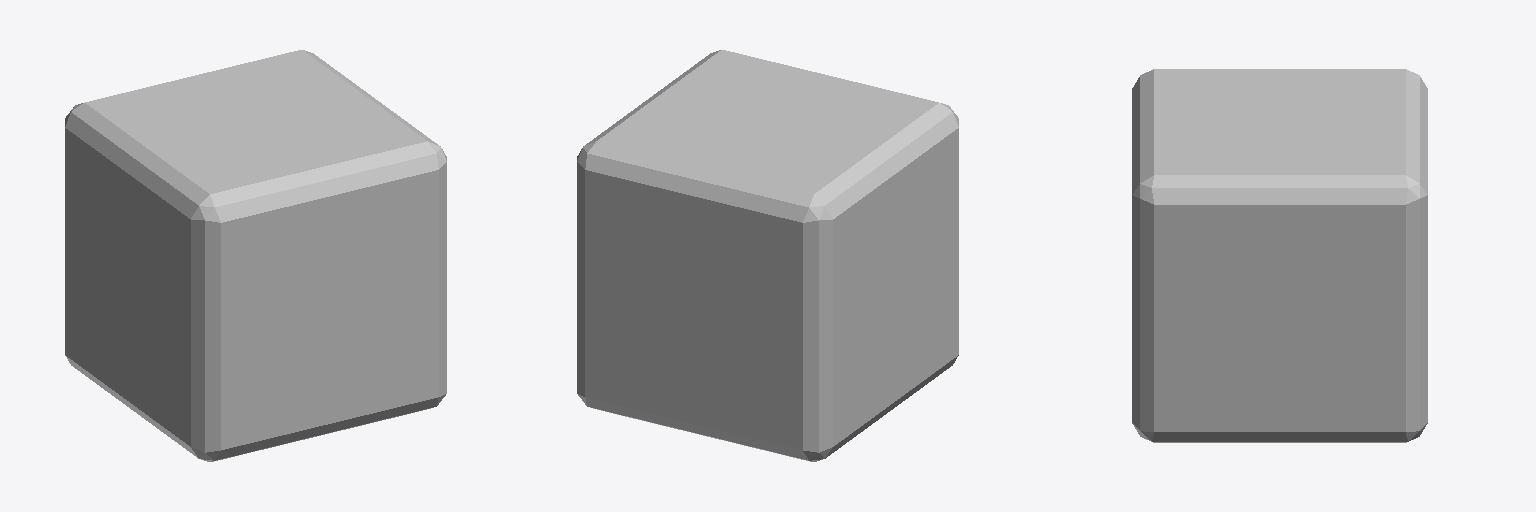
The model's file is sector.obj.
3 views of the same model, side by side, from view 1: azimuth 30°, elevation 25°; view 2: azimuth 150°, elevation 25°; view 3: azimuth 270°, elevation 25° (orthographic).
Visible parts, largest first — view 1: cube_cube_geom, cube_old_cube_geom_old, cube1_cube1_geom, cube0_cube0_geom, cube2_cube2_geom, cube4_cube4_geom, cube3_cube3_geom, cube7_cube7_geom; view 2: cube_cube_geom, cube_old_cube_geom_old, cube0_cube0_geom, cube4_cube4_geom, cube7_cube7_geom, cube3_cube3_geom, cube5_cube5_geom, cube6_cube6_geom; view 3: cube_cube_geom, cube_old_cube_geom_old, cube6_cube6_geom, cube5_cube5_geom, cube2_cube2_geom, cube1_cube1_geom.
Part boxes in pixels (left/top/right/bottom): cube_cube_geom: left=65, top=50, right=446, bottom=461; cube_old_cube_geom_old: left=73, top=66, right=424, bottom=431; cube1_cube1_geom: left=273, top=112, right=424, bottom=308; cube0_cube0_geom: left=128, top=127, right=329, bottom=327; cube2_cube2_geom: left=330, top=288, right=424, bottom=405; cube4_cube4_geom: left=73, top=110, right=229, bottom=279; cube3_cube3_geom: left=135, top=310, right=329, bottom=429; cube7_cube7_geom: left=73, top=250, right=127, bottom=377; cube_cube_geom: left=577, top=50, right=958, bottom=461; cube_old_cube_geom_old: left=599, top=101, right=950, bottom=431; cube0_cube0_geom: left=821, top=109, right=950, bottom=286; cube4_cube4_geom: left=694, top=127, right=895, bottom=330; cube7_cube7_geom: left=694, top=288, right=895, bottom=430; cube3_cube3_geom: left=896, top=248, right=950, bottom=385; cube5_cube5_geom: left=599, top=121, right=747, bottom=307; cube6_cube6_geom: left=599, top=290, right=693, bottom=407; cube_cube_geom: left=1132, top=69, right=1427, bottom=442; cube_old_cube_geom_old: left=1171, top=76, right=1388, bottom=416; cube6_cube6_geom: left=1280, top=319, right=1388, bottom=416; cube5_cube5_geom: left=1280, top=142, right=1388, bottom=318; cube2_cube2_geom: left=1171, top=319, right=1279, bottom=416; cube1_cube1_geom: left=1171, top=141, right=1279, bottom=318.
Size of the model in its own units: 1 by 1 by 1.